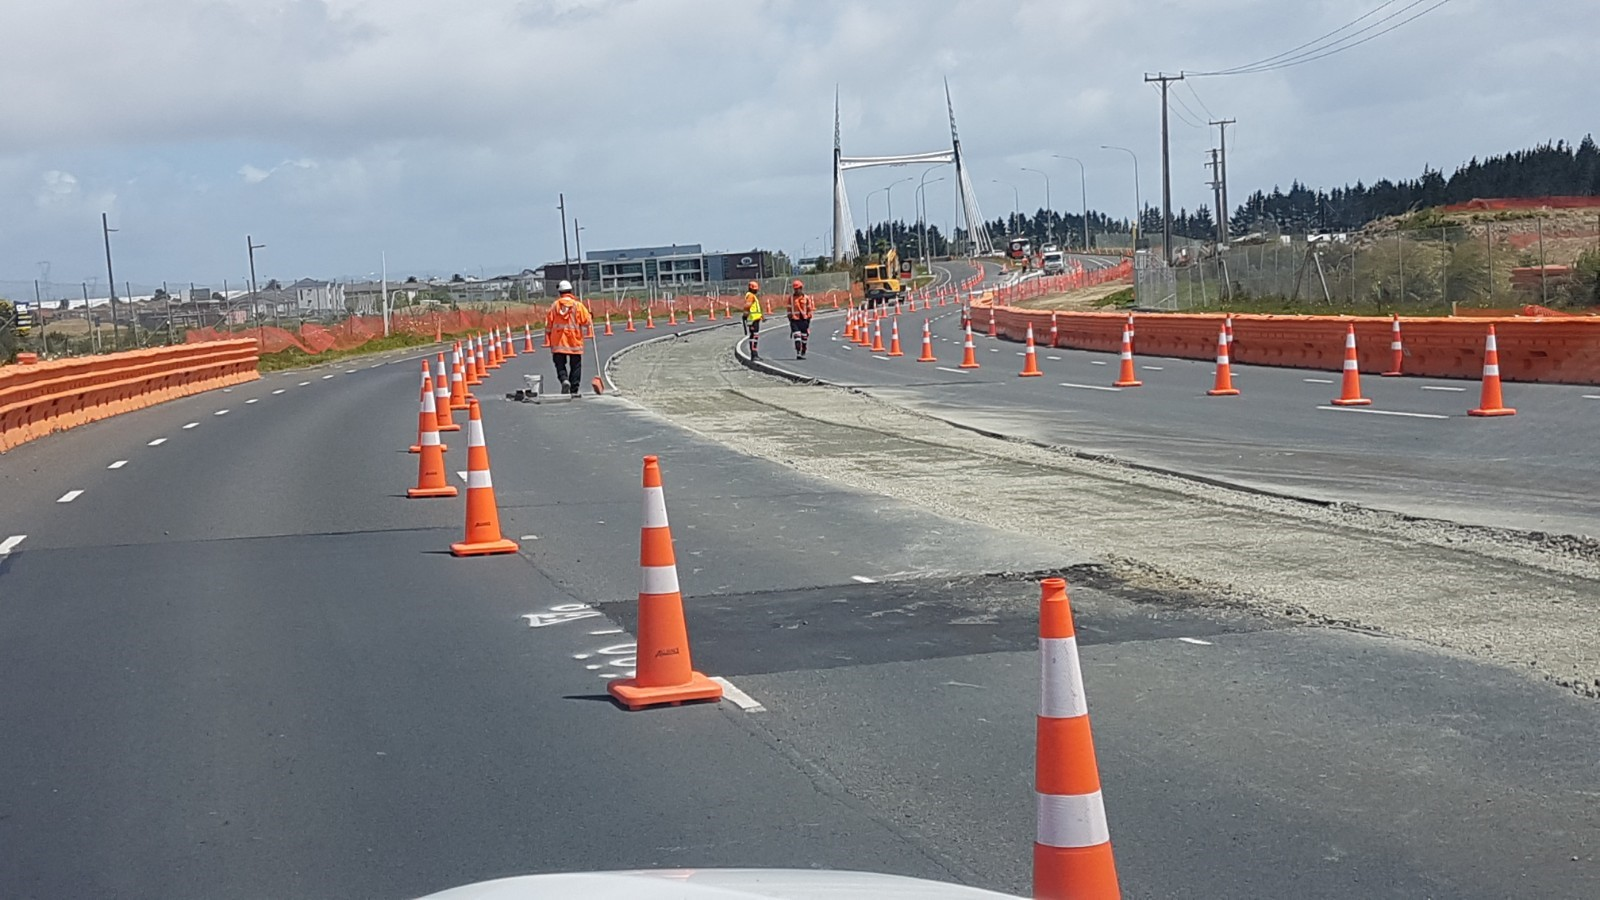cone: (1003, 566, 1135, 900), (603, 454, 722, 716), (445, 395, 520, 560), (405, 376, 460, 499), (1470, 325, 1514, 418), (1330, 324, 1373, 407), (410, 358, 446, 453), (427, 351, 460, 431), (1205, 323, 1241, 396), (440, 344, 474, 408), (1111, 324, 1144, 388), (1382, 312, 1412, 376), (1019, 321, 1043, 378), (448, 340, 473, 396), (958, 320, 981, 370), (460, 334, 482, 384), (468, 331, 490, 377), (916, 318, 938, 362), (1222, 312, 1238, 365), (480, 327, 500, 368), (886, 316, 903, 356), (1046, 308, 1062, 349), (870, 316, 887, 353), (490, 325, 505, 363), (1125, 312, 1138, 355), (857, 312, 873, 347), (501, 323, 516, 357), (520, 320, 535, 353), (985, 305, 1000, 338), (851, 311, 862, 344), (602, 310, 614, 336), (843, 309, 854, 337), (959, 299, 969, 327), (666, 301, 677, 326), (625, 308, 635, 332), (645, 305, 654, 329), (871, 298, 880, 320), (708, 301, 716, 321), (723, 300, 732, 320), (686, 305, 695, 324), (893, 296, 902, 314), (847, 295, 856, 312), (953, 288, 962, 305), (880, 297, 888, 316), (938, 288, 946, 305), (809, 295, 816, 310), (922, 292, 930, 308), (766, 298, 773, 315), (909, 293, 915, 311), (832, 295, 838, 309)
